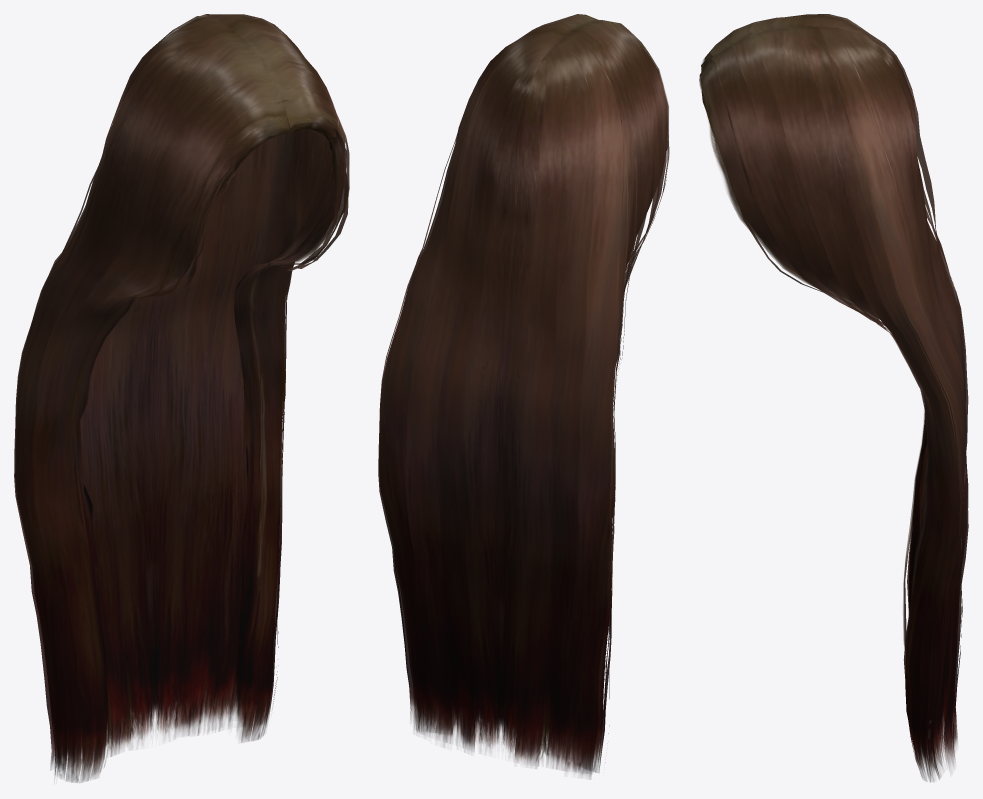
The model's file is Hair_long.glb.
3 views of the same model, side by side, from view 1: azimuth 30°, elevation 25°; view 2: azimuth 150°, elevation 25°; view 3: azimuth 270°, elevation 25° (orthographic). The views are drawn at different scales.
Visible parts, largest first — view 1: Human.long01; view 2: Human.long01; view 3: Human.long01.
Boxes of the visible parts, x1,y1,x2,y2 form: Human.long01: [14, 14, 349, 782]; Human.long01: [378, 14, 669, 778]; Human.long01: [699, 14, 968, 782].
Size of the model in its own units: 0.2612 by 0.7286 by 0.2466.
Materials: 1 (1 with a texture image).
